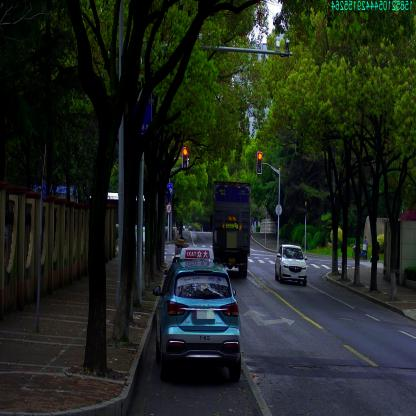traffic-light: (183, 147, 188, 168), (258, 152, 262, 174)
